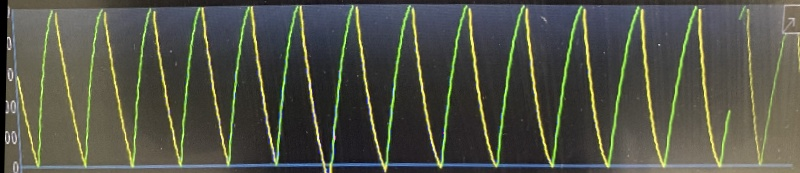normal_volume: (26, 1, 762, 173)
